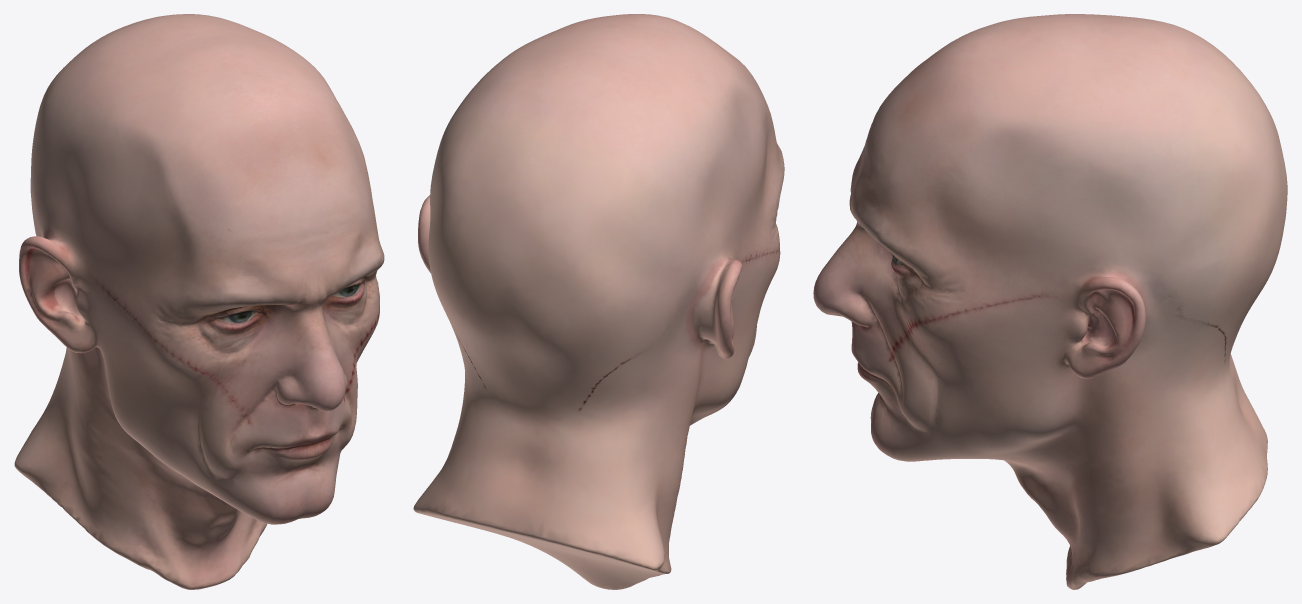
File: head_30k.glb
The picture shows the model from 3 angles, left to right: view 1: azimuth 30°, elevation 25°; view 2: azimuth 150°, elevation 25°; view 3: azimuth 270°, elevation 25°; orthographic projection.
Parts seen in each view (by area): view 1: Mesh1.0; view 2: Mesh1.0; view 3: Mesh1.0.
Boxes of the visible parts, x1,y1,x2,y2 form: Mesh1.0: (14,14,384,589); Mesh1.0: (413,14,784,589); Mesh1.0: (813,14,1287,589).
Size of the model in its own units: 1.16 by 1.92 by 1.49.
1 material, 1 textured.
